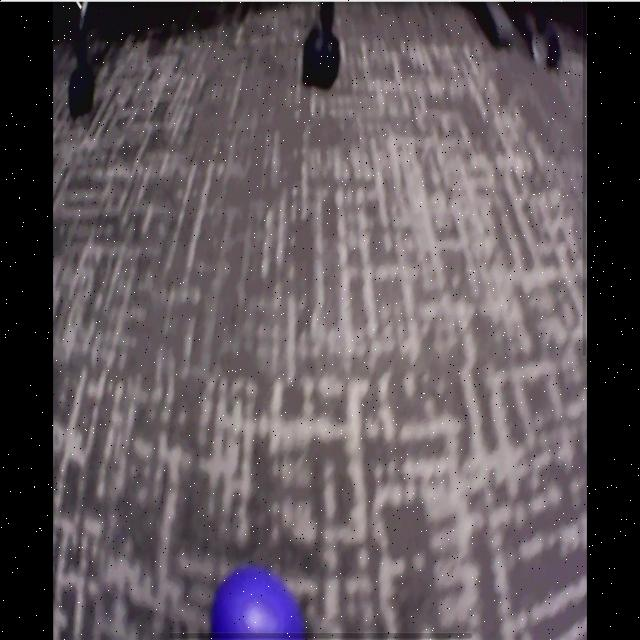ball: (211, 570, 305, 638)
